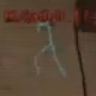hacks_2: (4, 9, 93, 76)
